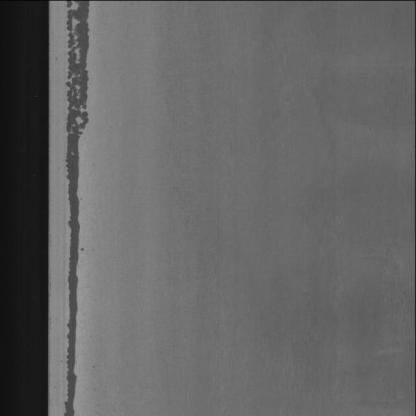oil_spot: (61, 1, 96, 416)
